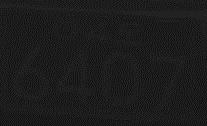0: (99, 48, 140, 107), (51, 14, 78, 41)
2: (84, 17, 112, 41)
4: (57, 47, 94, 104)
6: (12, 45, 54, 101)
7: (147, 55, 188, 109)
오: (116, 20, 145, 46)
